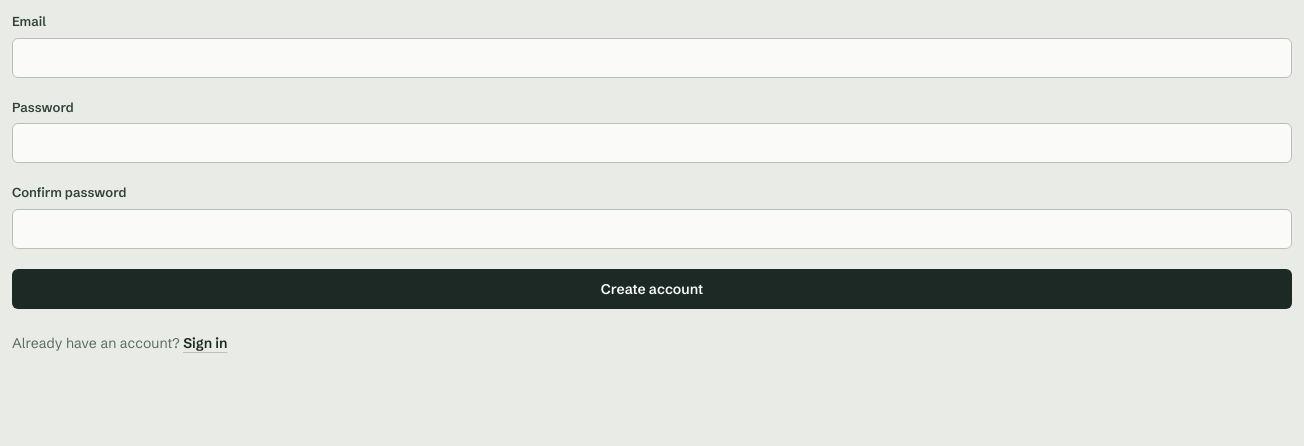
RegisterForm › validates on the client and makes no request when invalid
Click the button "Create account" at [652, 288], box [12, 268, 1292, 308]
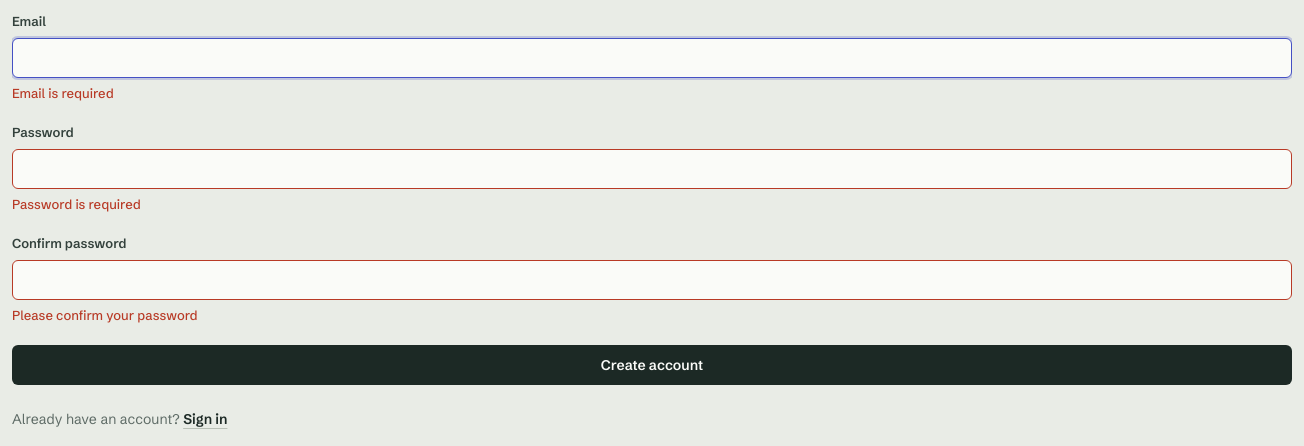
Check: the text "Email is required" is shown, box [12, 84, 114, 100]
Check: the text "Password is required" is shown, box [12, 196, 141, 212]
Check: the text "Please confirm your password" is shown, box [12, 306, 198, 322]
